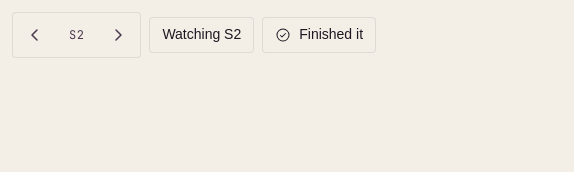
it: InProgressActions — season-state toggle › surfaces the caught-up notice when the show is moved to Paused
The image size is (574, 172).
Click the button "Watching S2" at (202, 35), box [149,17,254,53]
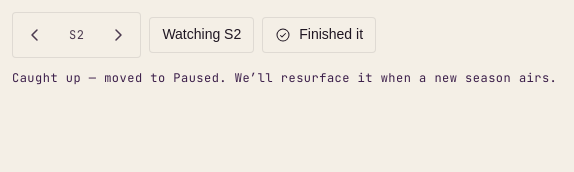
Result: the message shows "Caught up — moved to Paused" at [12,70,557,86]
